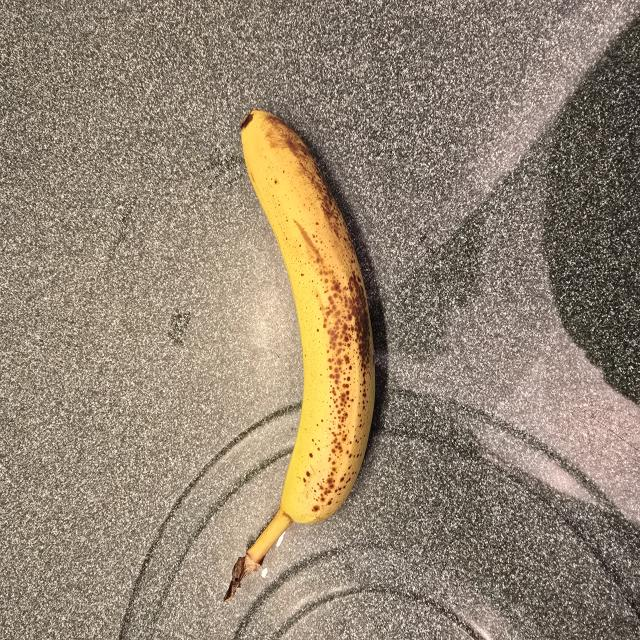Banana: (240, 110, 375, 571)
